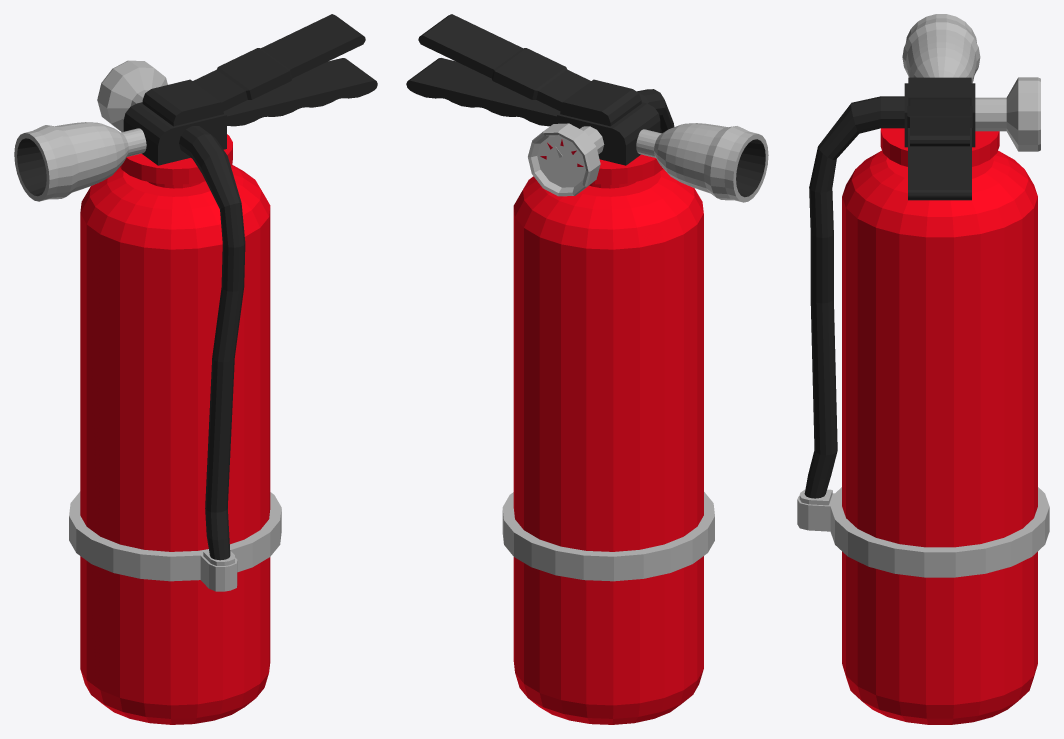
Rendered from Extinguisher.fbx.
The picture shows the model from 3 angles, left to right: view 1: azimuth 30°, elevation 25°; view 2: azimuth 150°, elevation 25°; view 3: azimuth 270°, elevation 25°; orthographic projection. The views are drawn at different scales.
Parts seen in each view (by area): view 1: Cylinder.004; view 2: Cylinder.004; view 3: Cylinder.004.
Part boxes in pixels (box(x1,y1,x2,y2)): Cylinder.004: box(14, 14, 377, 724); Cylinder.004: box(406, 14, 768, 724); Cylinder.004: box(797, 14, 1049, 724).
Size of the model in its own units: 38.55 by 70.38 by 24.9.
